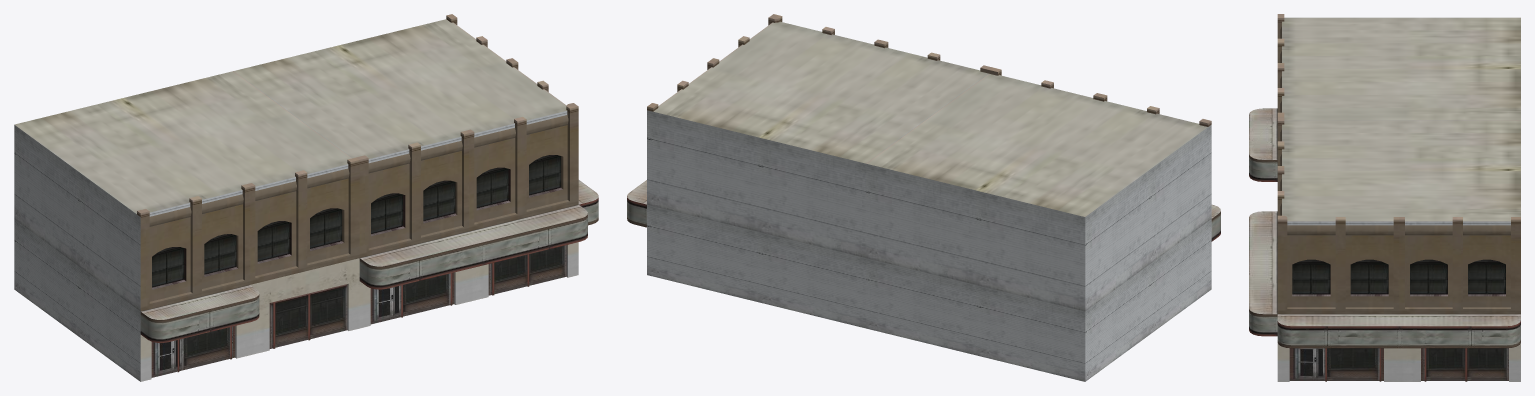
The model's file is o3_edificio_fondo_5.glb.
3 renders of one model, left to right at view 1: azimuth 30°, elevation 25°; view 2: azimuth 150°, elevation 25°; view 3: azimuth 270°, elevation 25°, orthographic. The views are drawn at different scales.
Visible parts, largest first — view 1: sb_modello; view 2: sb_modello; view 3: sb_modello.
Boxes of the visible parts, x1,y1,x2,y2 form: sb_modello: (14,14,598,381); sb_modello: (627,14,1220,381); sb_modello: (1249,14,1520,381).
Size of the model in its own units: 29.63 by 10.29 by 15.63.
2 materials, 2 textured.
